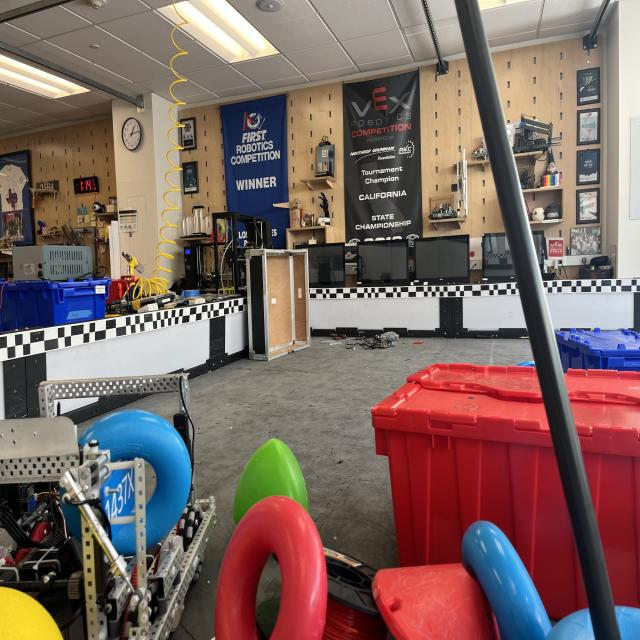Blue-Ring: (80, 410, 191, 587), (462, 522, 551, 640), (546, 608, 595, 640), (615, 607, 640, 640)
Red-Ring: (215, 495, 328, 640)
